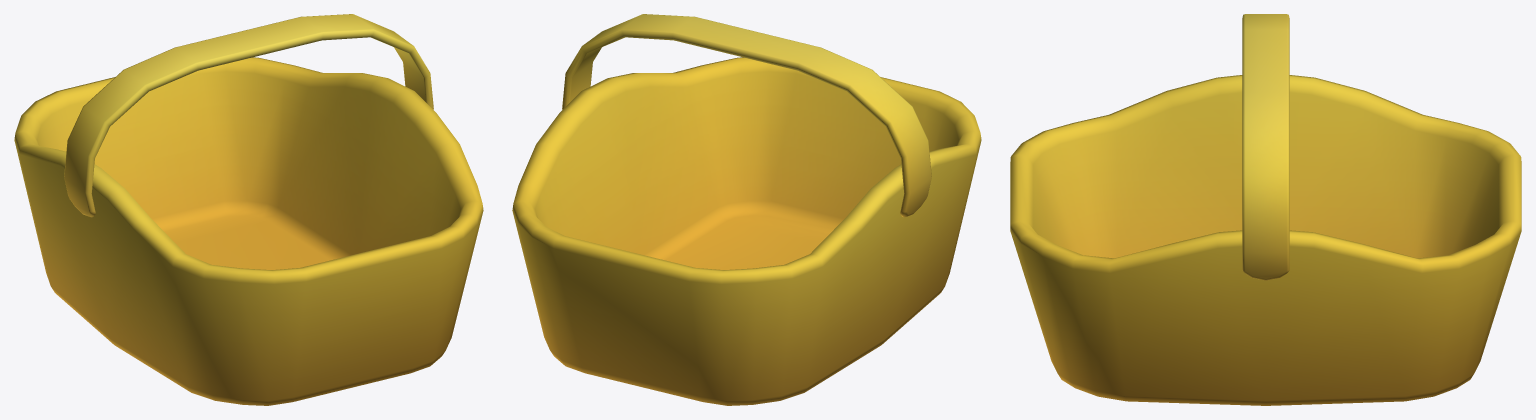
Rendered from basket_yellow_smile.fbx.
3 renders of one model, left to right at view 1: azimuth 30°, elevation 25°; view 2: azimuth 150°, elevation 25°; view 3: azimuth 270°, elevation 25°, orthographic.
Parts seen in each view (by area): view 1: basket_yellow_smile; view 2: basket_yellow_smile; view 3: basket_yellow_smile.
Part boxes in pixels (x1,y1,x2,y2): basket_yellow_smile: (14, 14, 483, 405); basket_yellow_smile: (512, 14, 981, 405); basket_yellow_smile: (1010, 14, 1521, 405).
Bounding box in the file's own units: 87.86 × 109 × 66.41.
Materials: 1 (1 with a texture image).
